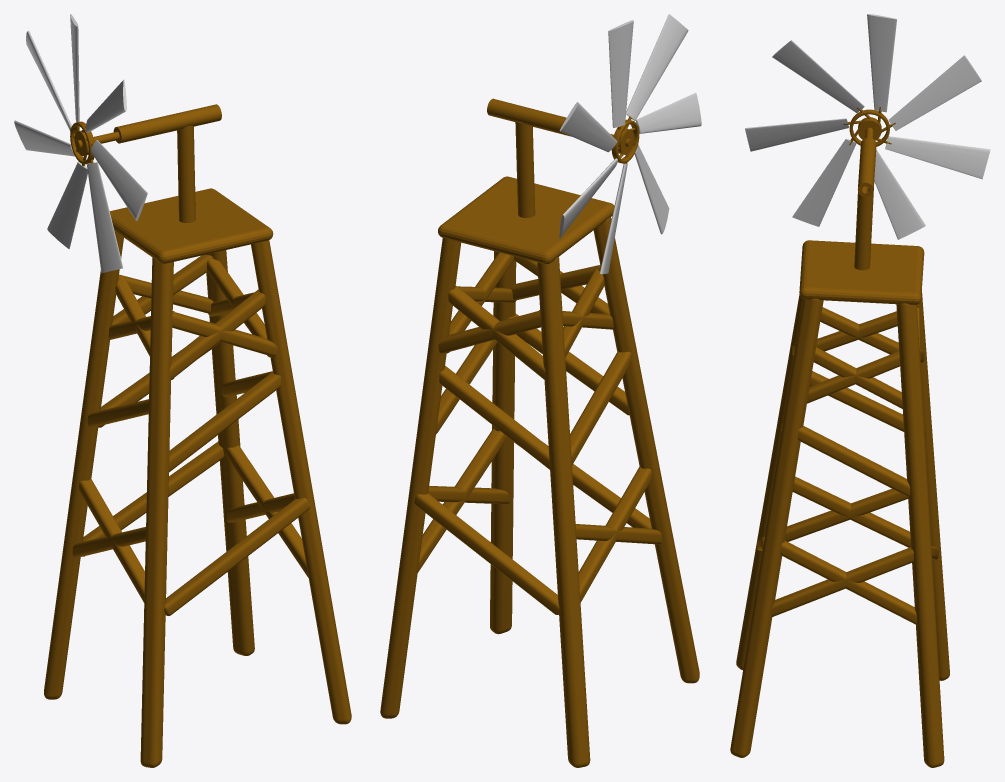
The model's file is uploads-files-1888834-мельница.fbx.
3 renders of one model, left to right at view 1: azimuth 30°, elevation 25°; view 2: azimuth 150°, elevation 25°; view 3: azimuth 270°, elevation 25°, orthographic. The views are drawn at different scales.
Parts seen in each view (by area): view 1: Объект_Куб_2_3, Объект_Куб, Объект_Куб_3, Объект_Куб_2_2, Объект_Куб_3_2, Объект_Куб_1, Объект_Куб_2, Выдавливание_8, Объект_Труба, Объект_Цилиндр, Выдавливание_10, Объект_Куб_1_2 (+5 smaller); view 2: Объект_Куб_2_3, Объект_Куб, Объект_Куб_3, Объект_Куб_2_2, Объект_Куб_3_2, Объект_Куб_1, Объект_Куб_2, Объект_Куб_1_2, Выдавливание_4, Выдавливание, Объект_Цилиндр, Выдавливание_6 (+5 smaller); view 3: Объект_Куб_2_3, Объект_Куб_3, Объект_Куб, Объект_Куб_2, Объект_Куб_1_2, Выдавливание_12, Выдавливание_14, Выдавливание, Выдавливание_10, Выдавливание_8, Выдавливание_4, Выдавливание_6 (+2 smaller).
Boxes of the visible parts, x1,y1,x2,y2 form: Объект_Куб_2_3: (44, 231, 351, 767); Объект_Куб: (109, 188, 273, 263); Объект_Куб_3: (72, 445, 308, 602); Объект_Куб_2_2: (112, 254, 277, 379); Объект_Куб_3_2: (83, 441, 310, 615); Объект_Куб_1: (98, 341, 280, 472); Объект_Куб_2: (108, 259, 271, 379); Выдавливание_8: (87, 162, 123, 272); Объект_Труба: (113, 104, 221, 143); Объект_Цилиндр: (177, 125, 195, 222); Выдавливание_10: (47, 162, 87, 248); Объект_Куб_1_2: (87, 371, 272, 427); Объект_Куб_2_3: (380, 217, 699, 767); Объект_Куб: (438, 176, 614, 264); Объект_Куб_3: (417, 428, 661, 602); Объект_Куб_2_2: (438, 256, 609, 379); Объект_Куб_3_2: (414, 440, 651, 614); Объект_Куб_1: (439, 313, 629, 469); Объект_Куб_2: (446, 252, 613, 357); Объект_Куб_1_2: (436, 340, 631, 465); Выдавливание_4: (626, 14, 688, 120); Выдавливание: (608, 21, 633, 127); Объект_Цилиндр: (515, 121, 535, 217); Выдавливание_6: (636, 92, 701, 133); Объект_Куб_2_3: (730, 291, 949, 767); Объект_Куб_3: (771, 476, 916, 624); Объект_Куб: (799, 240, 924, 305); Объект_Куб_2: (807, 307, 902, 408); Объект_Куб_1_2: (797, 371, 910, 497); Выдавливание_12: (885, 136, 990, 179); Выдавливание_14: (888, 55, 981, 130); Выдавливание: (867, 14, 896, 112); Выдавливание_10: (874, 149, 925, 239); Выдавливание_8: (792, 139, 856, 226); Выдавливание_4: (772, 40, 864, 112); Выдавливание_6: (745, 118, 848, 151).
Bounding box in the file's own units: 33.62 × 105 × 37.56.
